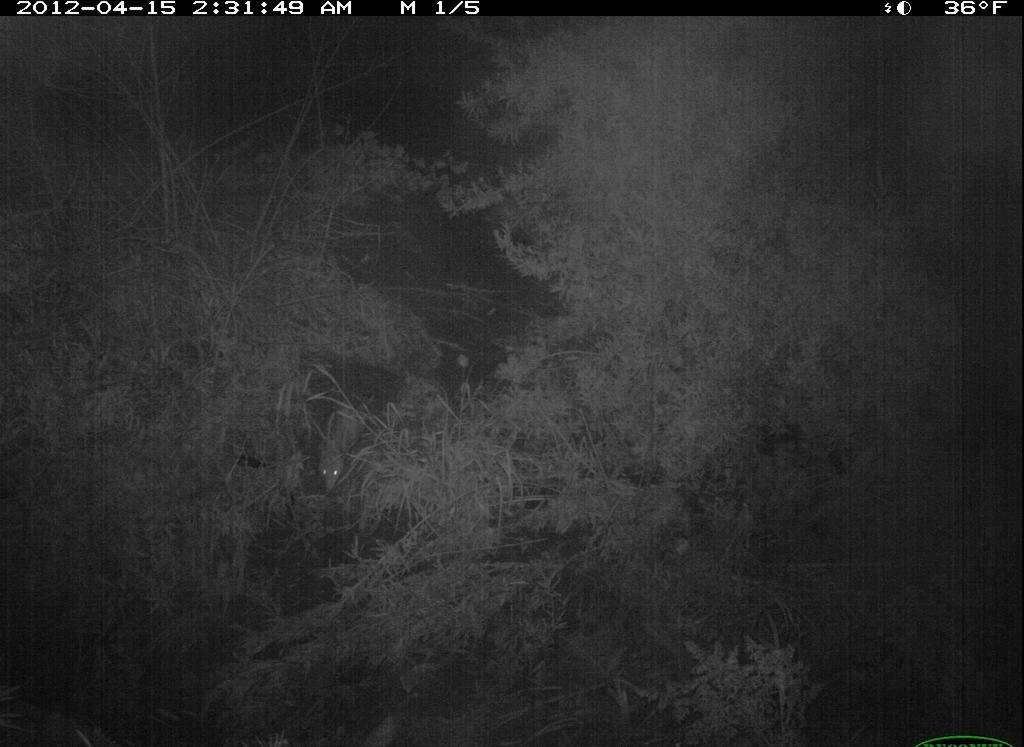opossum: (316, 391, 377, 498)
